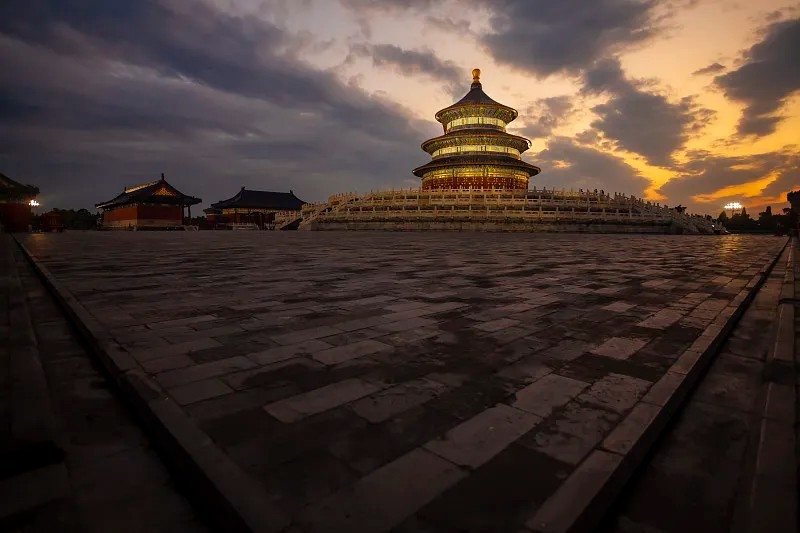Heaven: (410, 69, 542, 196)
